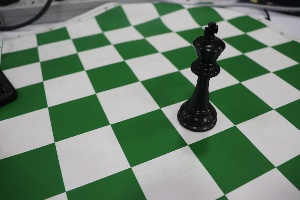black_king: (178, 7, 225, 138)
